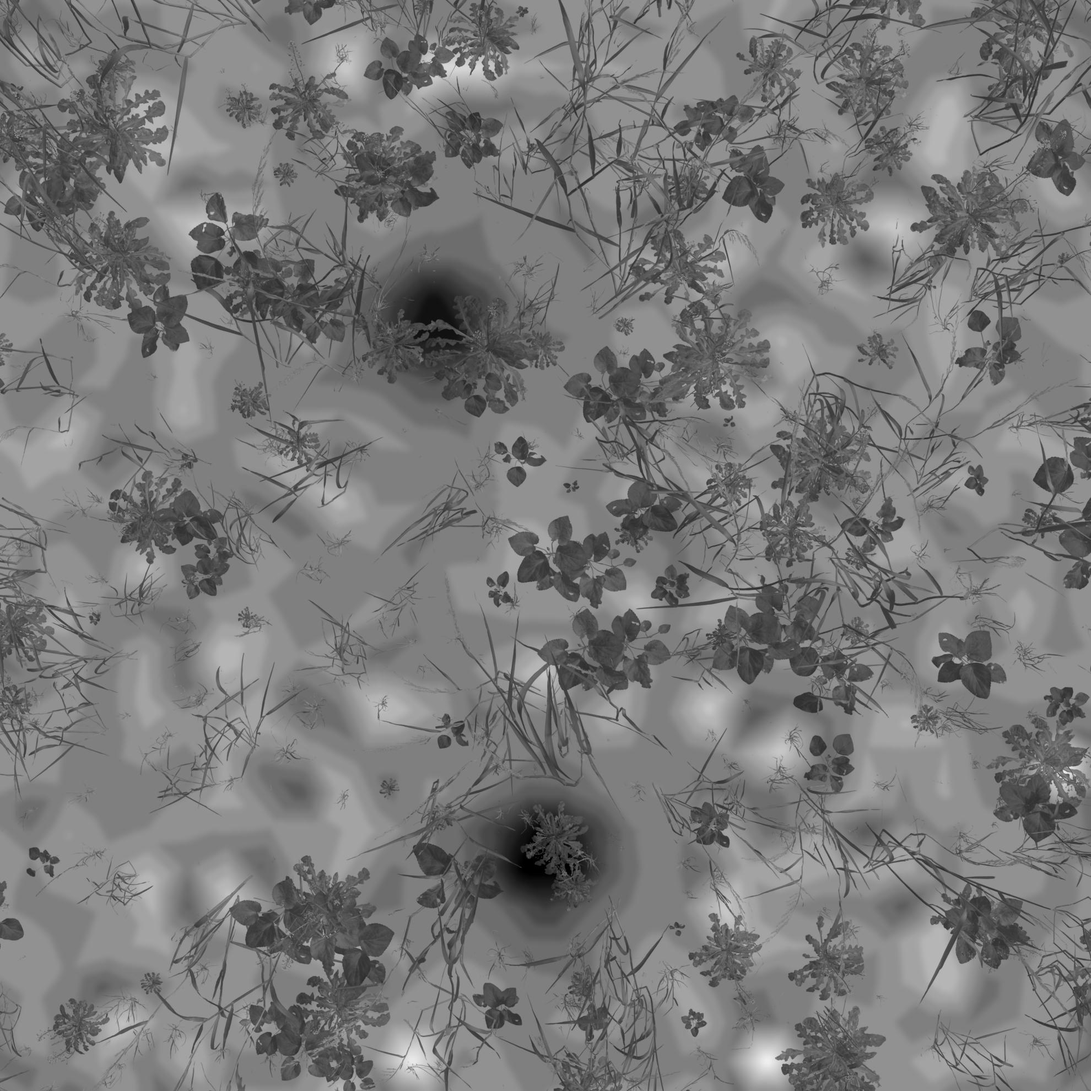landmine: (477, 782, 613, 923), (368, 251, 500, 392)
